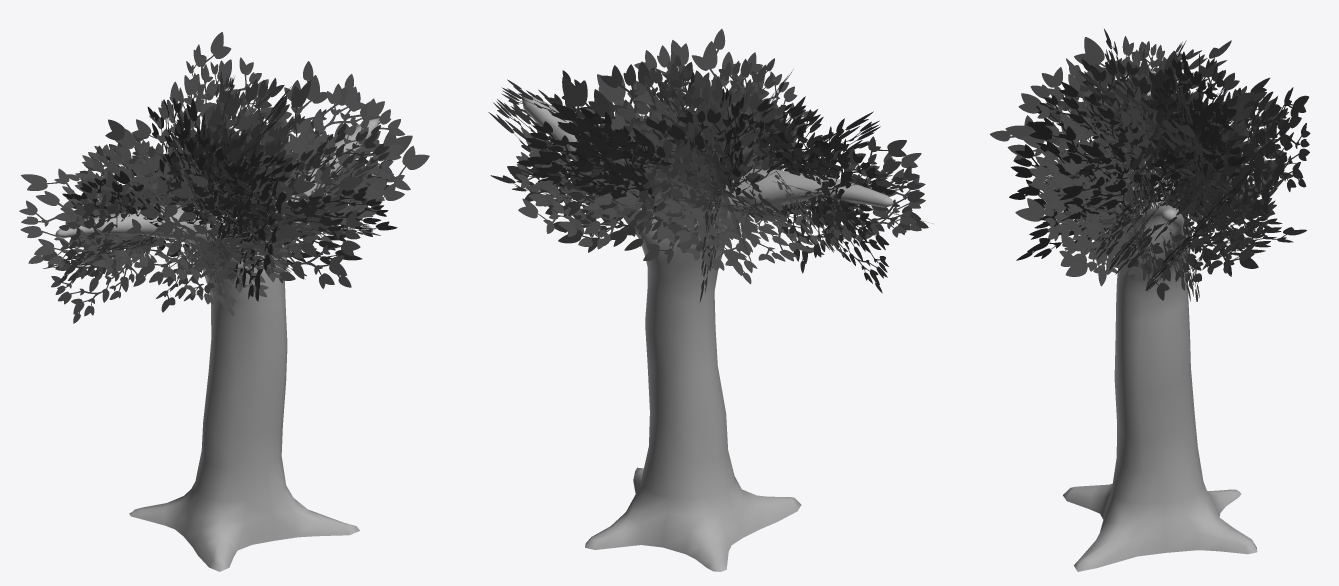
The model's file is Trees_V1_Test.fbx.
3 renders of one model, left to right at view 1: azimuth 30°, elevation 25°; view 2: azimuth 150°, elevation 25°; view 3: azimuth 270°, elevation 25°, orthographic. The views are drawn at different scales.
Visible parts, largest first — view 1: LeaveDeck, Tree_One_Low; view 2: LeaveDeck, Tree_One_Low; view 3: LeaveDeck, Tree_One_Low.
Part boxes in pixels (box(x1,y1,x2,y2)): LeaveDeck: box(19, 32, 429, 323); Tree_One_Low: box(55, 118, 379, 571); LeaveDeck: box(488, 29, 932, 302); Tree_One_Low: box(521, 96, 893, 571); LeaveDeck: box(990, 29, 1310, 301); Tree_One_Low: box(1063, 67, 1257, 571).
Bounding box in the file's own units: 4.86 × 4.94 × 3.23.
Materials: 2 (1 with a texture image).
